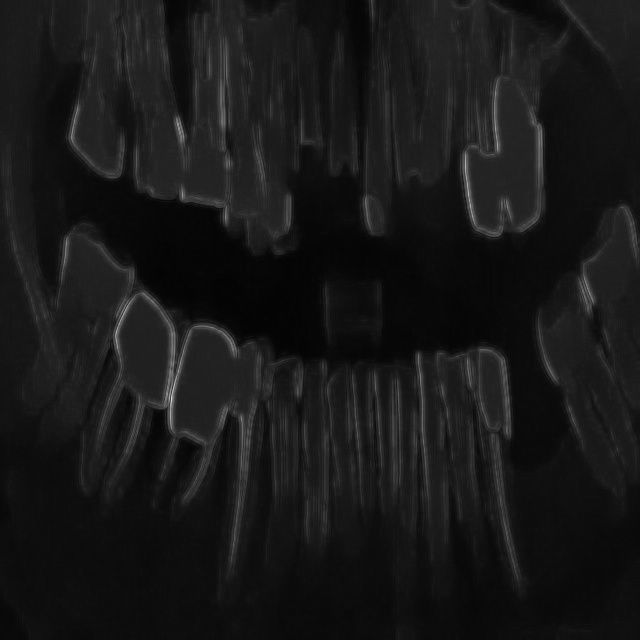Class 0- No endodontic treatment: (66, 196, 165, 543), (453, 299, 552, 632), (218, 318, 274, 632)
Class 1- complete endodontic treatment: (446, 9, 566, 272), (149, 264, 232, 554)
cavity: (294, 319, 424, 588), (280, 16, 373, 196)
